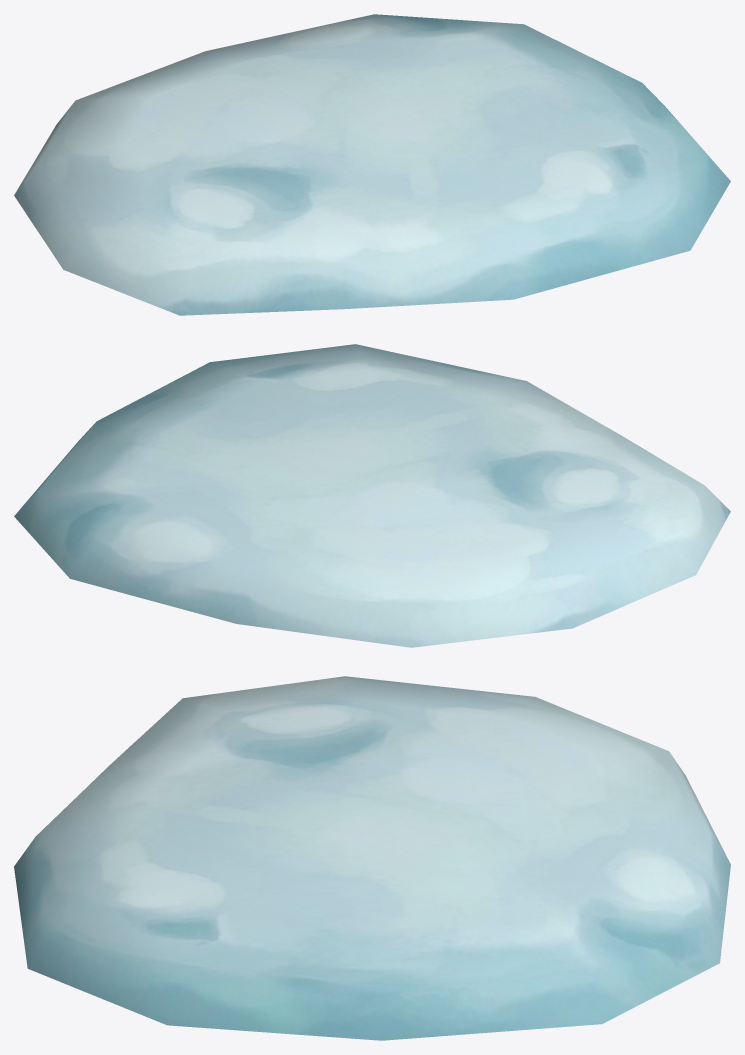
The model's file is Snow02.glb.
The picture shows the model from 3 angles, top to bottom: view 1: azimuth 30°, elevation 25°; view 2: azimuth 150°, elevation 25°; view 3: azimuth 270°, elevation 25°; orthographic projection. The views are drawn at different scales.
Visible parts, largest first — view 1: Snow02; view 2: Snow02; view 3: Snow02.
Boxes of the visible parts, x1,y1,x2,y2 form: Snow02: (14, 14, 730, 315); Snow02: (14, 344, 730, 647); Snow02: (14, 676, 730, 1040).
Size of the model in its own units: 2.55 by 0.2064 by 2.24.
1 material, 1 textured.
